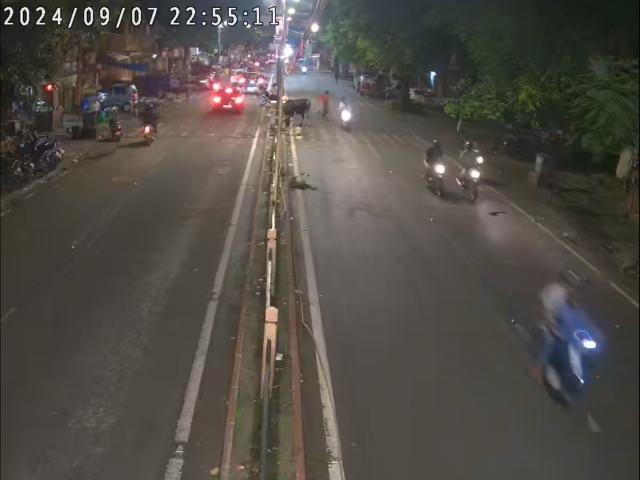car: (210, 84, 250, 115)
cattle: (276, 97, 316, 129)
motorbike-rider: (416, 137, 454, 204), (455, 138, 490, 207)
scooty-rider: (138, 99, 164, 148)
